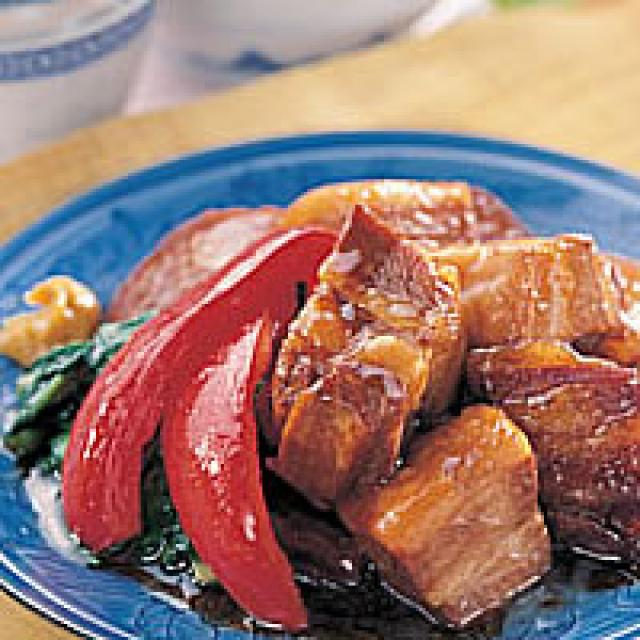猪肉菜式: (0, 144, 640, 640)
